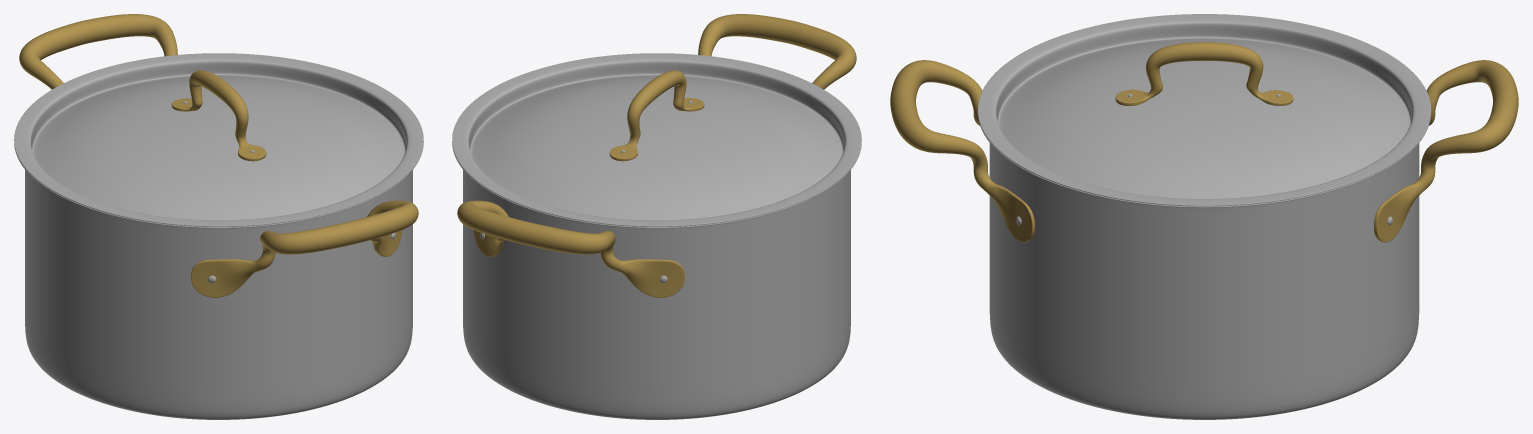
The model's file is pot.glb.
3 renders of one model, left to right at view 1: azimuth 30°, elevation 25°; view 2: azimuth 150°, elevation 25°; view 3: azimuth 270°, elevation 25°, orthographic. The views are drawn at different scales.
Visible parts, largest first — view 1: Cube.001, Cube.002; view 2: Cube.001, Cube.002; view 3: Cube.001, Cube.002.
Part boxes in pixels (left/top/right/bottom): Cube.001: left=14, top=14, right=423, bottom=419; Cube.002: left=14, top=53, right=423, bottom=226; Cube.001: left=452, top=14, right=861, bottom=419; Cube.002: left=452, top=53, right=861, bottom=226; Cube.001: left=890, top=60, right=1518, bottom=419; Cube.002: left=977, top=14, right=1431, bottom=206.
Bounding box in the file's own units: 4.89 × 3.46 × 6.77.
